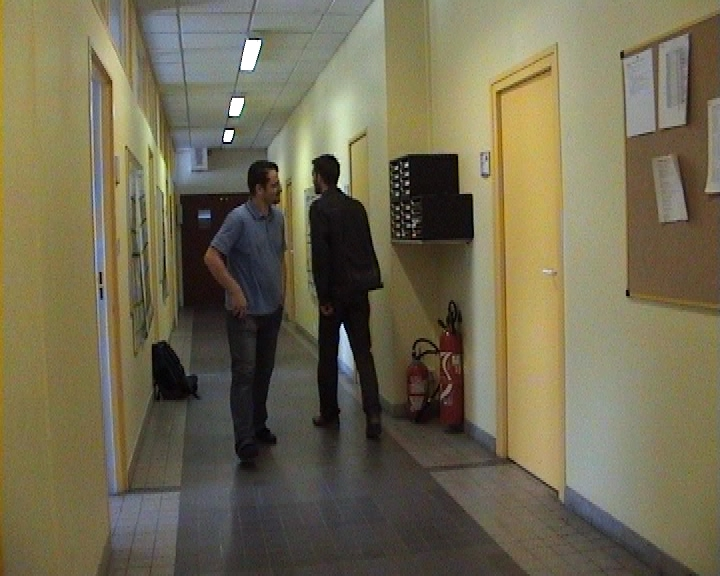leave bag unattended: (121, 321, 192, 404)
